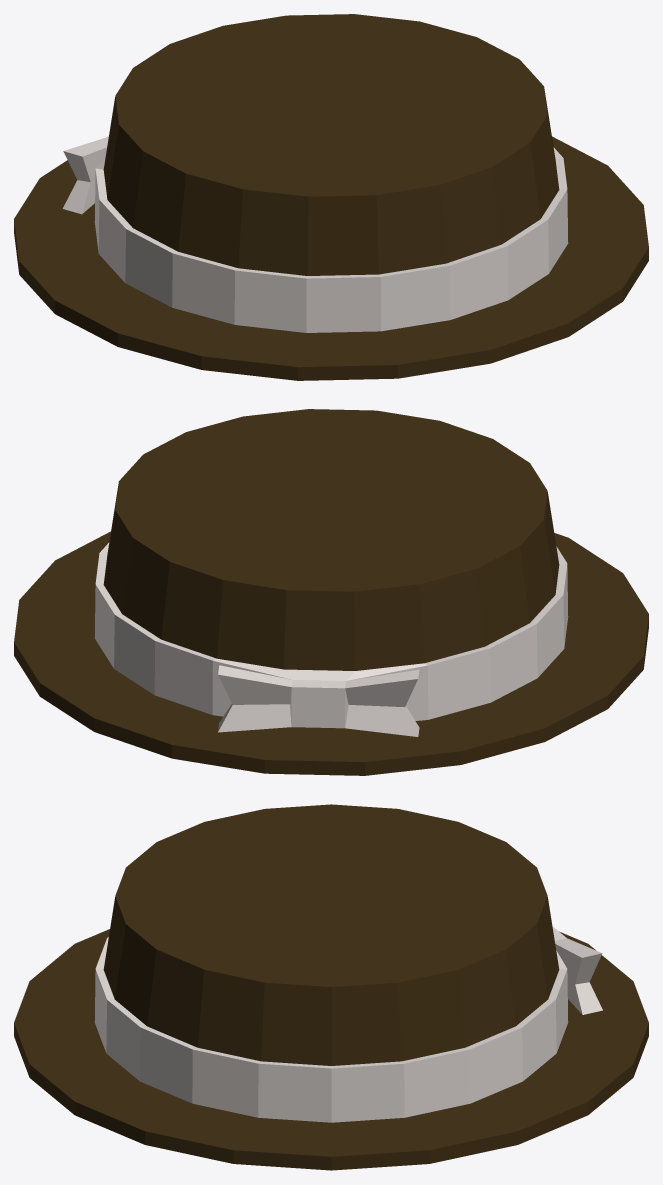
Rendered from strawboater old.fbx.
3 renders of one model, top to bottom at view 1: azimuth 30°, elevation 25°; view 2: azimuth 150°, elevation 25°; view 3: azimuth 270°, elevation 25°, orthographic.
Parts seen in each view (by area): view 1: Circle, Circle.001; view 2: Circle, Circle.001; view 3: Circle, Circle.001.
Boxes of the visible parts, x1,y1,x2,y2 form: Circle: [14, 14, 648, 380]; Circle.001: [62, 135, 568, 332]; Circle: [14, 409, 648, 775]; Circle.001: [94, 542, 568, 736]; Circle: [14, 804, 648, 1170]; Circle.001: [94, 926, 602, 1122].
Bounding box in the file's own units: 200 × 48.86 × 200.
